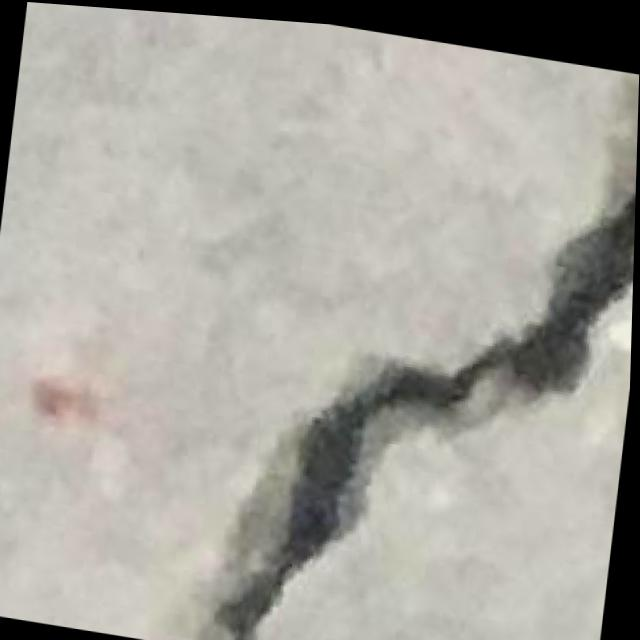Crack: (192, 12, 640, 640)
